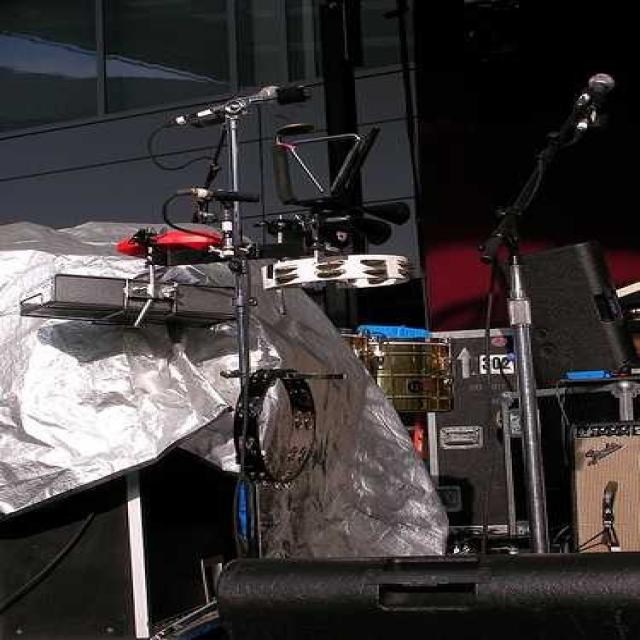microphone: (172, 81, 312, 126), (566, 74, 615, 136), (183, 185, 268, 211)
